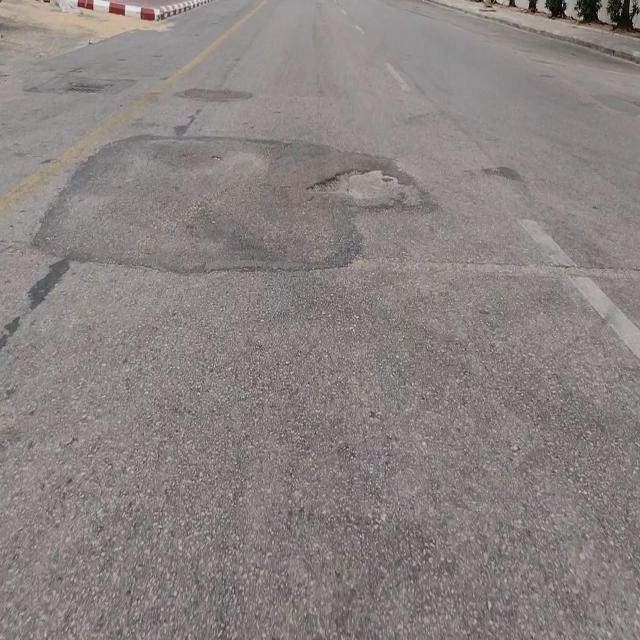Pothole: (311, 164, 400, 202)
